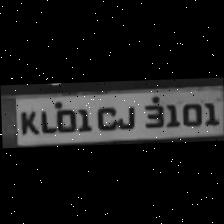0: (50, 103, 78, 132), (178, 98, 204, 126)
1: (160, 97, 180, 128), (201, 96, 221, 127), (72, 103, 92, 132)
3: (138, 98, 164, 129)
C: (90, 102, 118, 130)
J: (113, 100, 137, 129)
K: (13, 104, 37, 136)
L: (35, 103, 53, 134)
